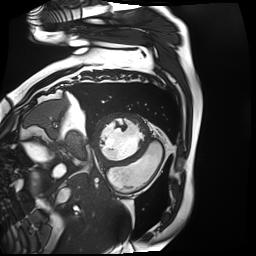ventricle: (101, 121, 145, 160)
